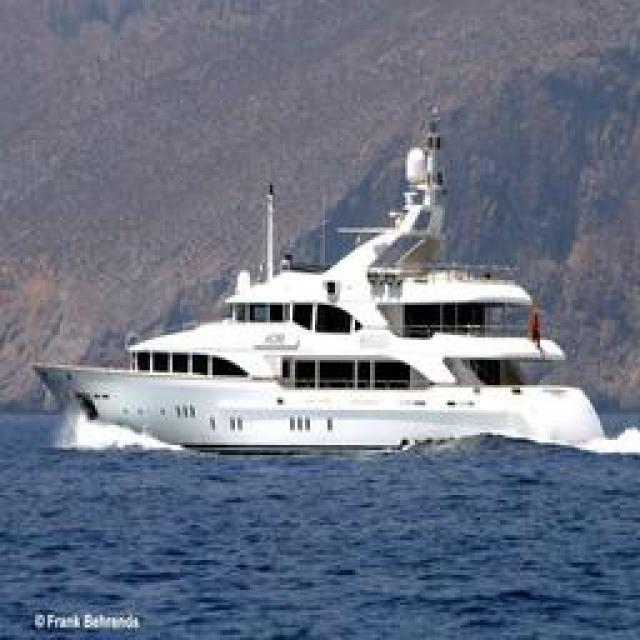CIV_Ship: (45, 94, 598, 446)
